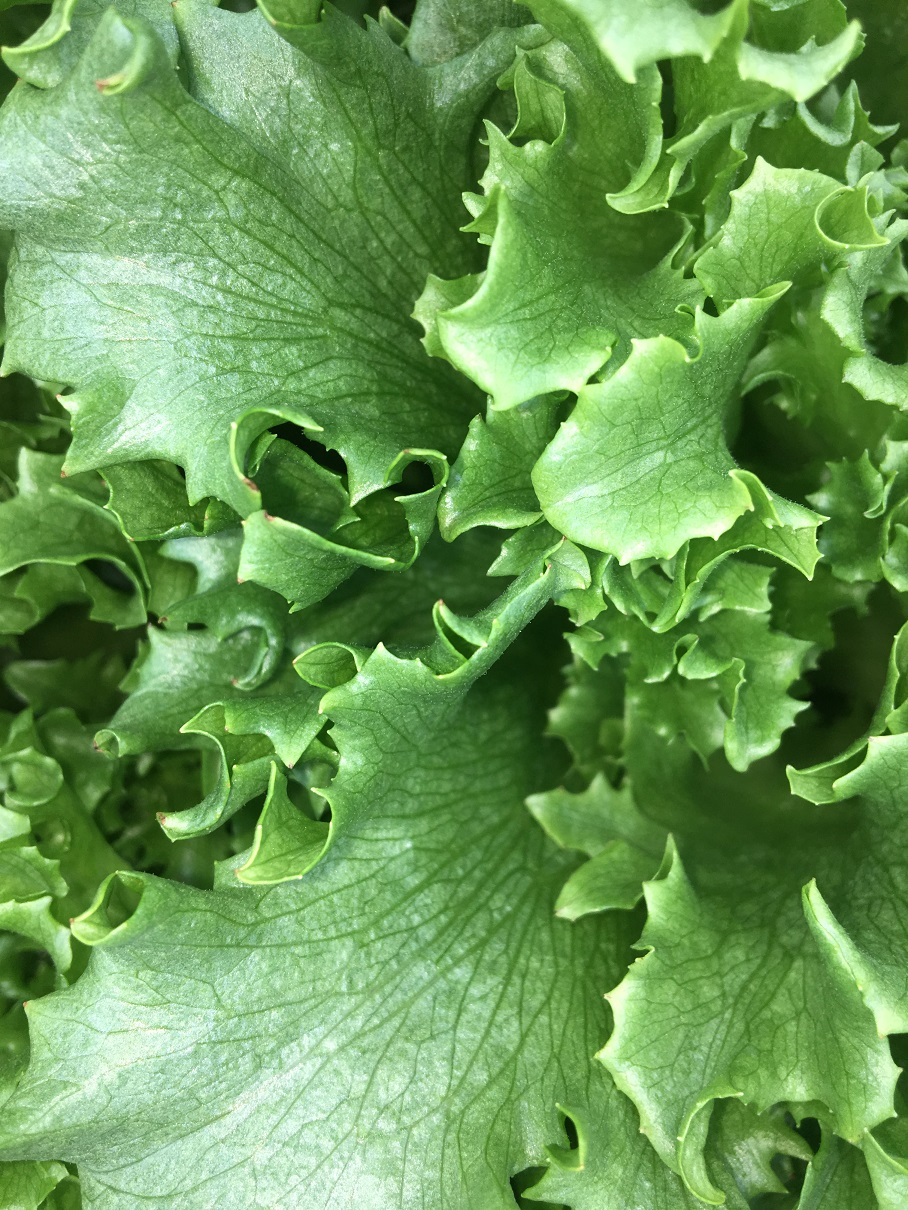tipburn: (466, 610, 515, 665), (417, 580, 465, 628), (231, 457, 274, 504), (564, 1148, 607, 1194), (78, 69, 124, 110), (139, 795, 181, 839), (144, 600, 183, 646), (529, 546, 570, 586), (215, 854, 255, 893), (54, 899, 91, 940), (545, 519, 586, 556), (50, 452, 86, 493), (251, 497, 290, 534), (75, 731, 115, 767), (39, 376, 77, 412), (214, 661, 250, 697), (390, 438, 421, 471), (226, 565, 255, 598), (152, 1, 193, 22)
